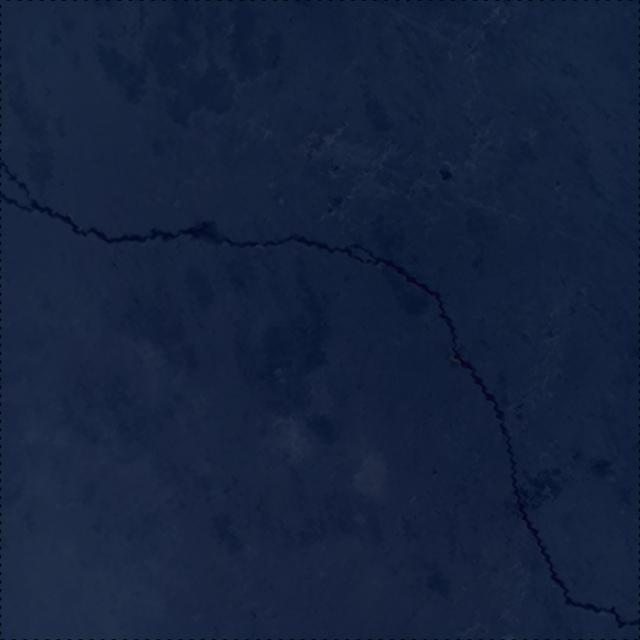crack: (0, 161, 640, 628)
